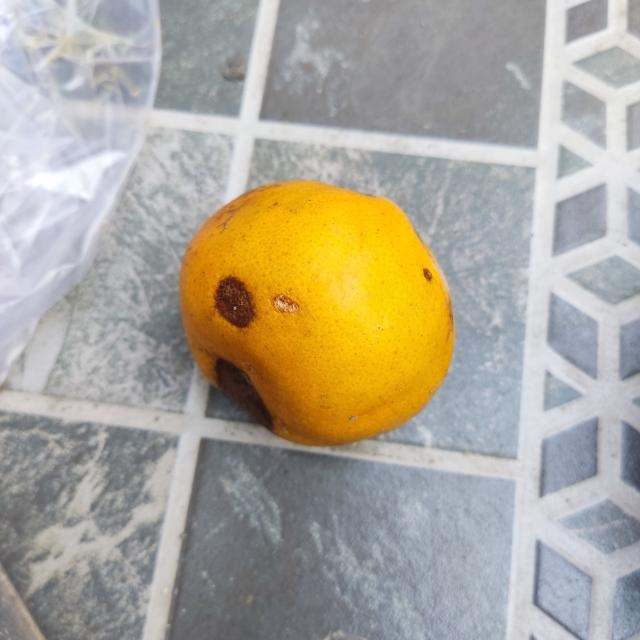agrume: (174, 172, 458, 452)
